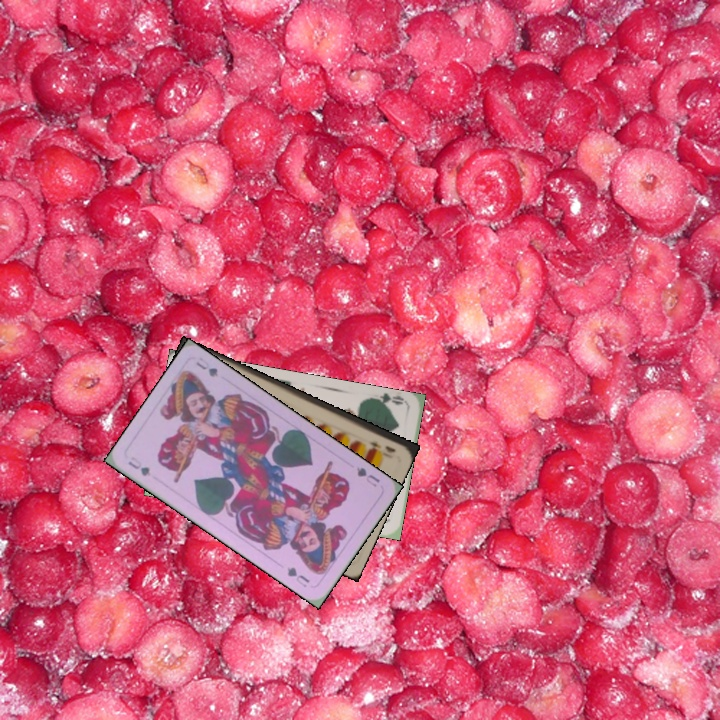E10: (364, 437, 399, 455)
GO: (367, 390, 408, 411)
GU: (352, 463, 382, 490), (124, 452, 153, 479)
